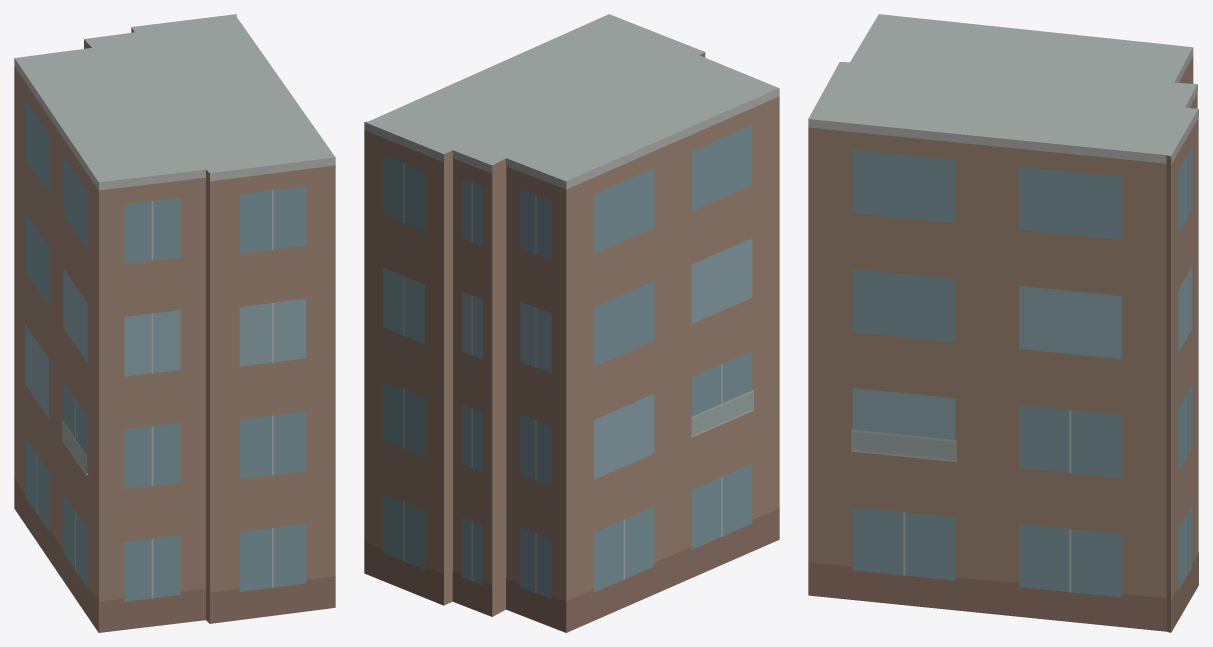
The model's file is survey-upis-32924084.glb.
3 views of the same model, side by side, from view 1: azimuth 30°, elevation 25°; view 2: azimuth 150°, elevation 25°; view 3: azimuth 270°, elevation 25° (orthographic). The views are drawn at different scales.
Parts seen in each view (by area): view 1: survey-upis-32924084.tmp; view 2: survey-upis-32924084.tmp; view 3: survey-upis-32924084.tmp.
Boxes of the visible parts, left/top/right/bottom form: survey-upis-32924084.tmp: left=14, top=14, right=335, bottom=632; survey-upis-32924084.tmp: left=364, top=14, right=779, bottom=632; survey-upis-32924084.tmp: left=808, top=14, right=1198, bottom=632.
Bounding box in the file's own units: 8.79 × 13.69 × 10.18.
